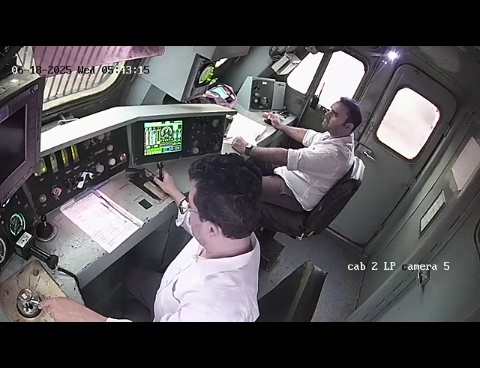brake_applied: (3, 264, 117, 320)
horn_inactive: (21, 207, 70, 247)
